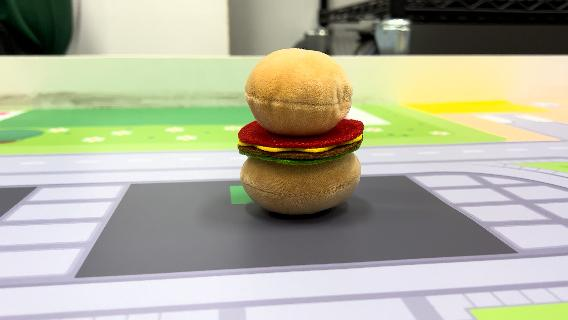burger: (234, 44, 368, 218)
